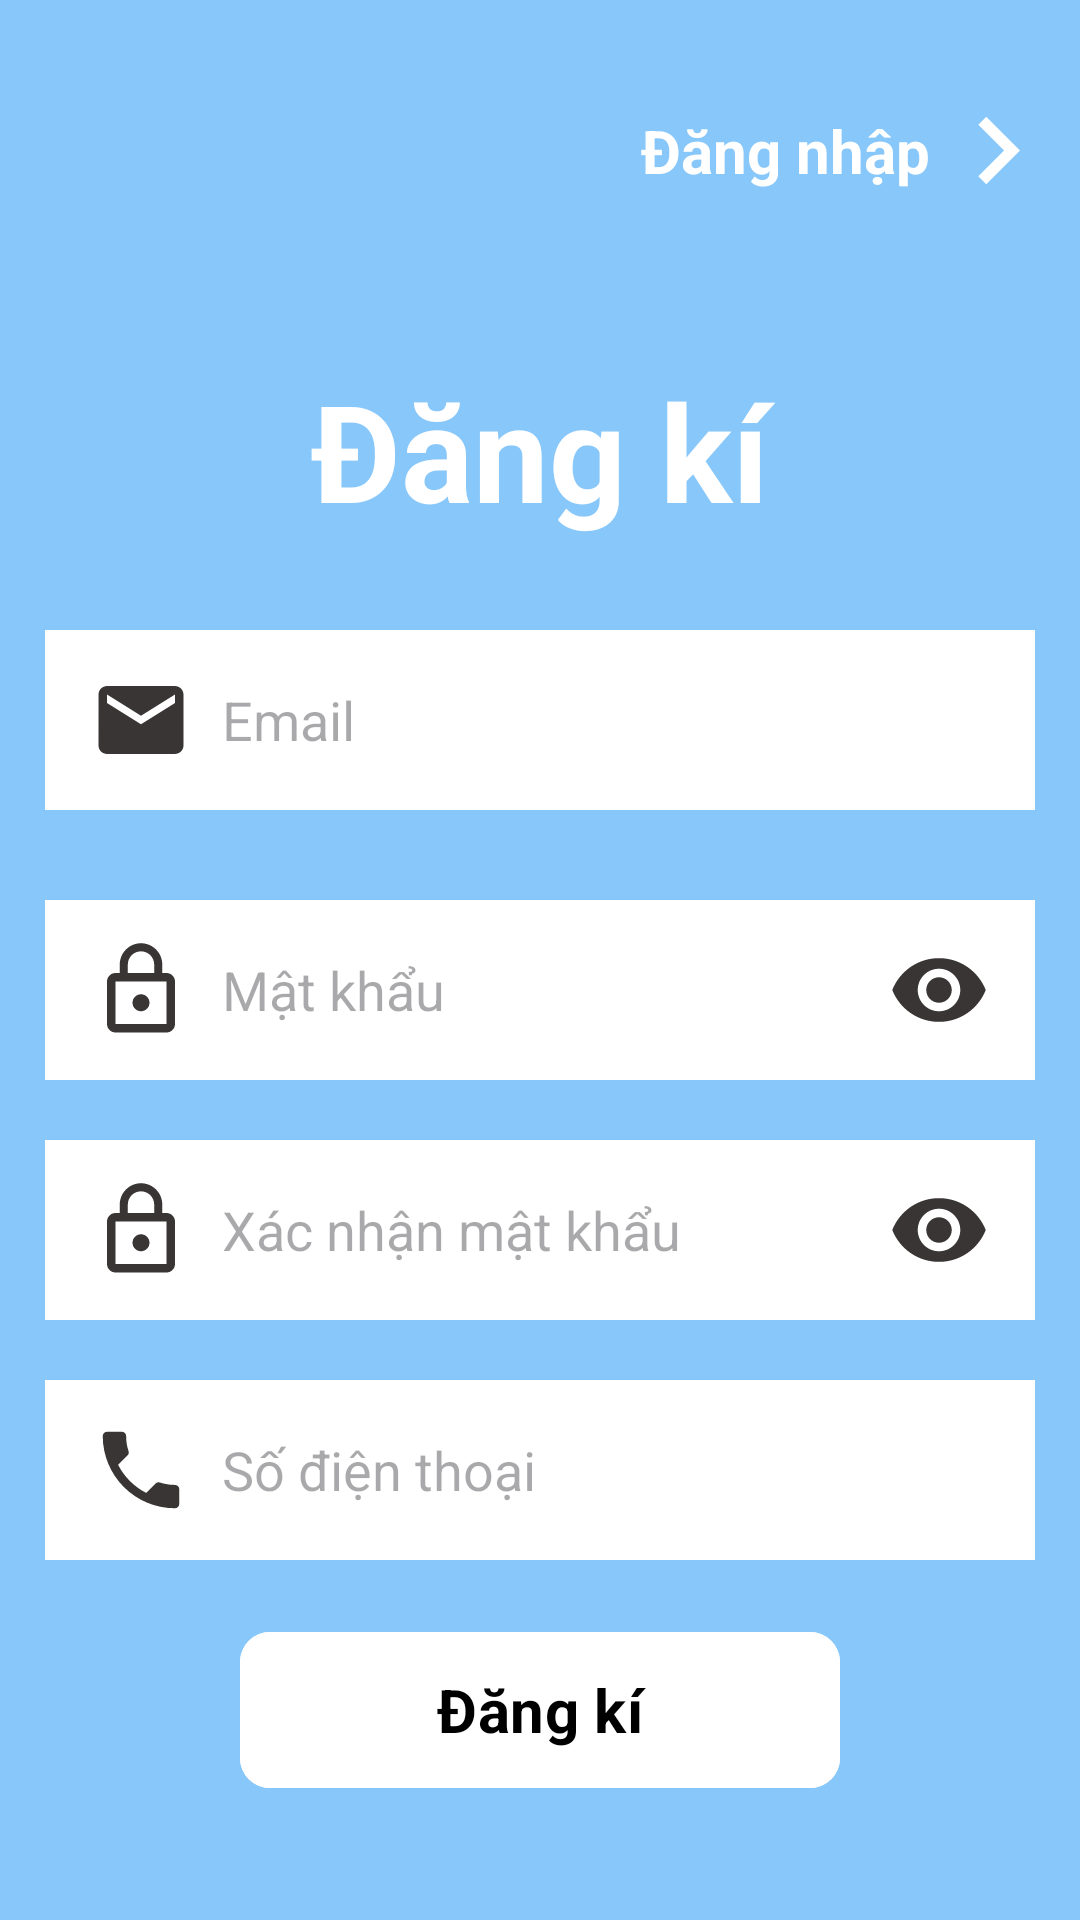

Icon bounding boxes for this 1080 x 1920 phone screenshot, format (x1, y1, x2, y2):
chevron right: (978, 117, 1020, 184)
